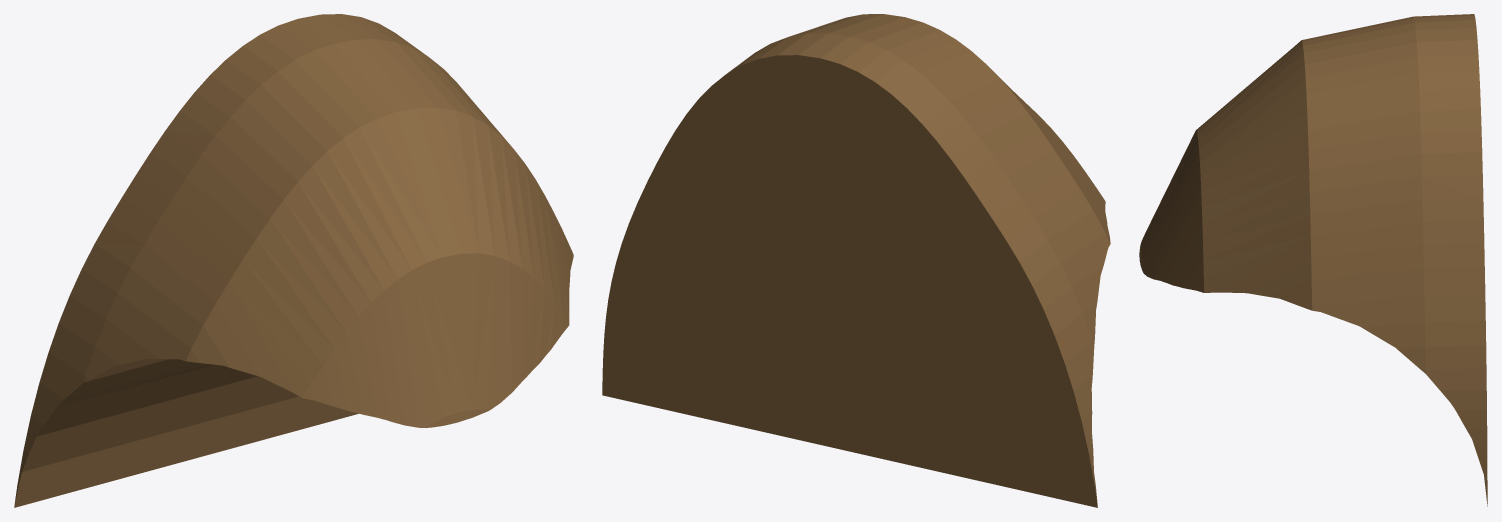
Rendered from LFx_joint_visu.dae.
3 views of the same model, side by side, from view 1: azimuth 30°, elevation 25°; view 2: azimuth 150°, elevation 25°; view 3: azimuth 270°, elevation 25° (orthographic). The views are drawn at different scales.
Parts seen in each view (by area): view 1: node; view 2: node; view 3: node.
Boxes of the visible parts, box(x1,y1,x2,y2) form: node: box(14, 14, 573, 507); node: box(602, 14, 1110, 507); node: box(1139, 14, 1487, 506).
Size of the model in its own units: 0.0536 by 0.041 by 0.034.
